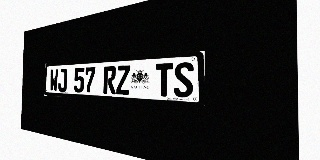5: (74, 67, 84, 93)
7: (84, 67, 95, 93)
J: (58, 68, 67, 92)
R: (103, 66, 116, 94)
S: (174, 62, 194, 98)
T: (155, 63, 173, 97)
W: (50, 69, 58, 92)
Z: (116, 65, 130, 95)
